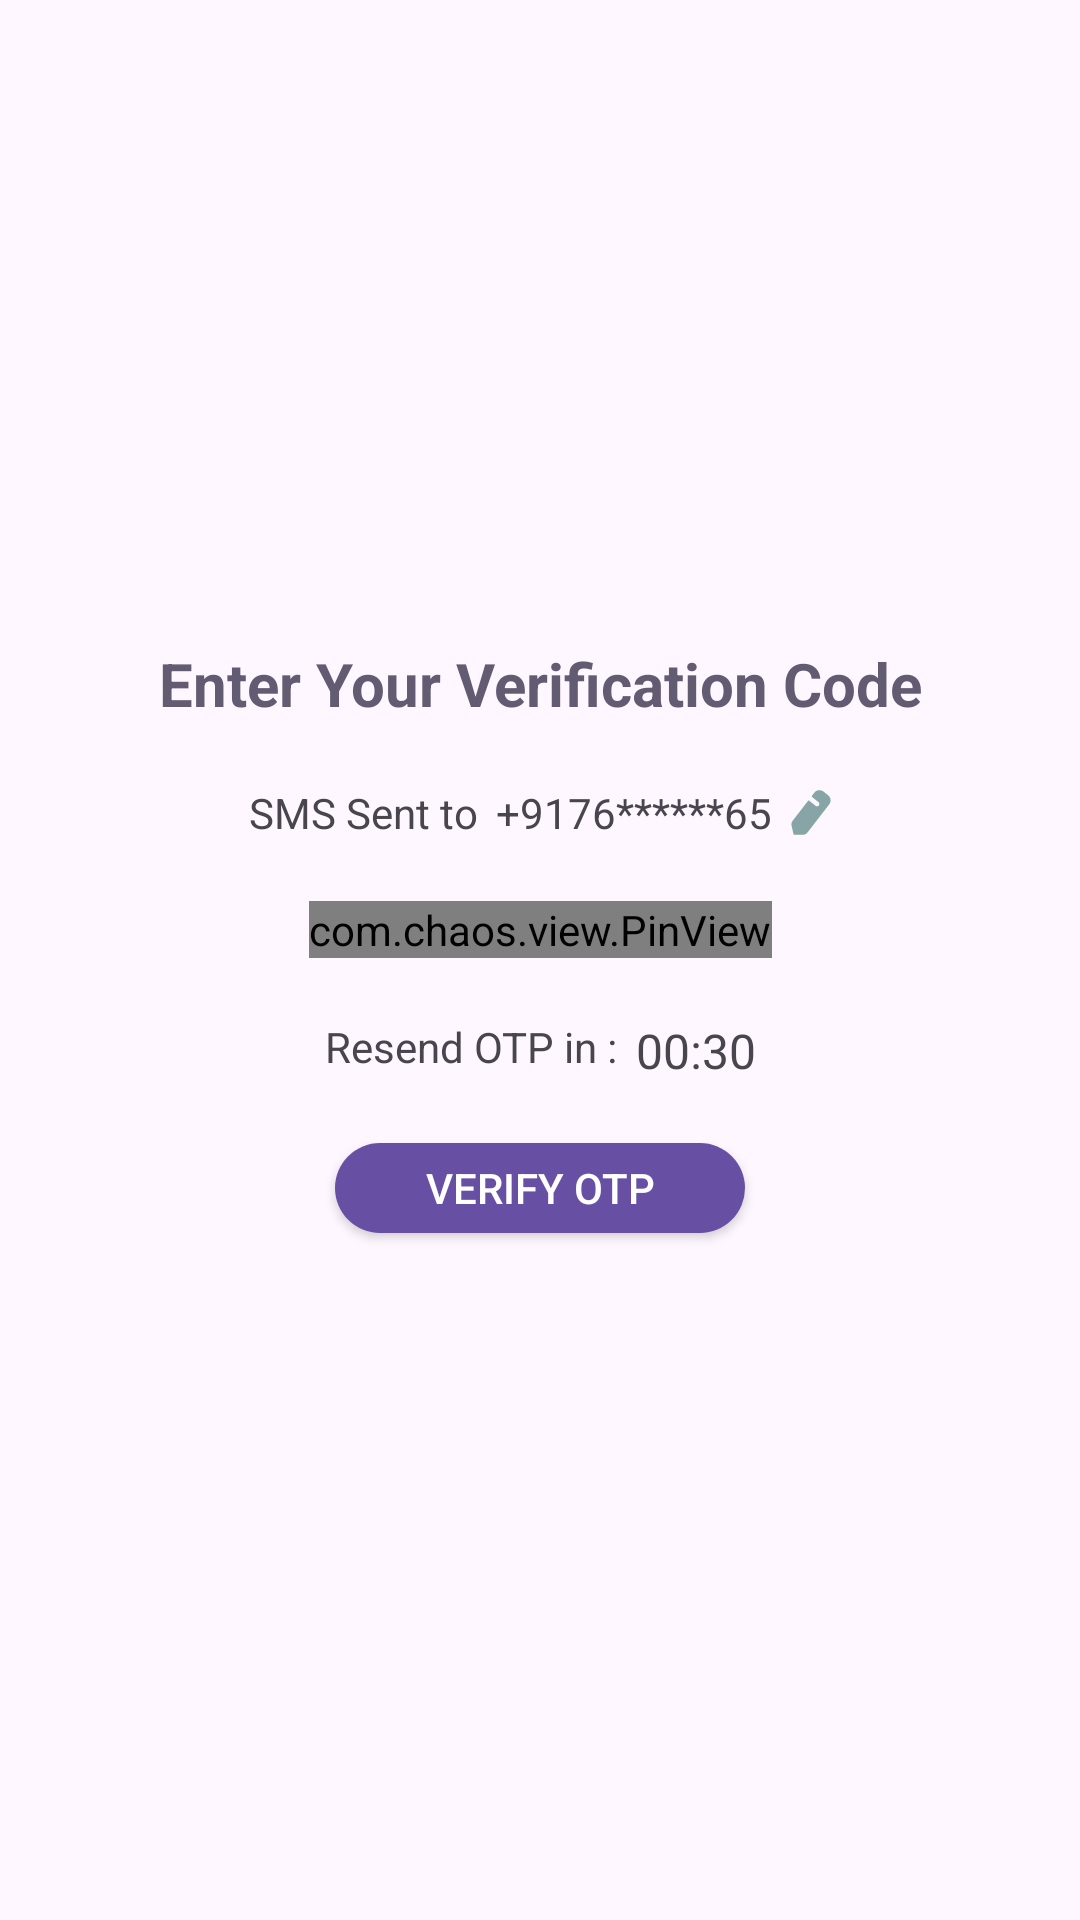

Named icons in this screenshot (1080 × 1920) and their centers, (x=x, y=y):
edit: (x=811, y=812)
